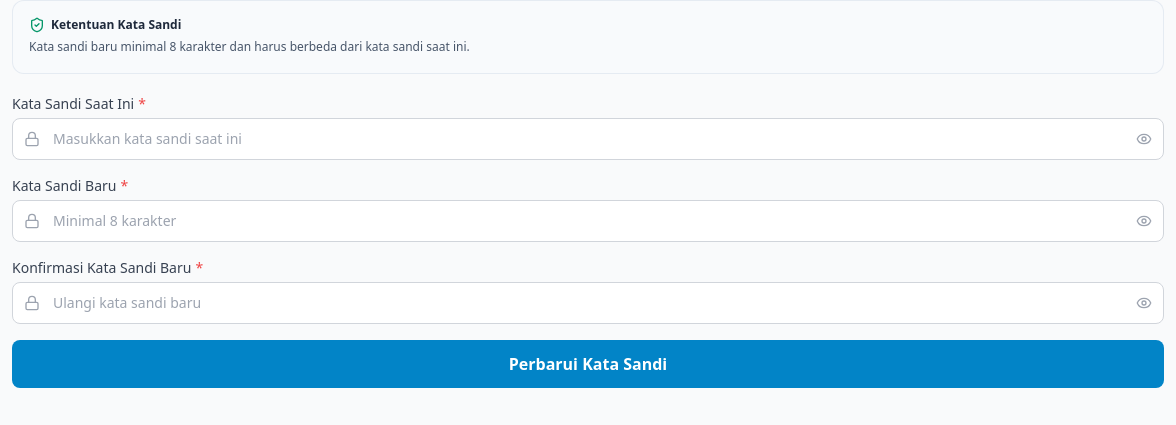
Test: ChangePasswordForm Component › prevents submission when new password equals current password
In the password field with placeholder "Masukkan kata sandi saat ini": (588, 138) [12,118,1164,160], type "samePassword123"
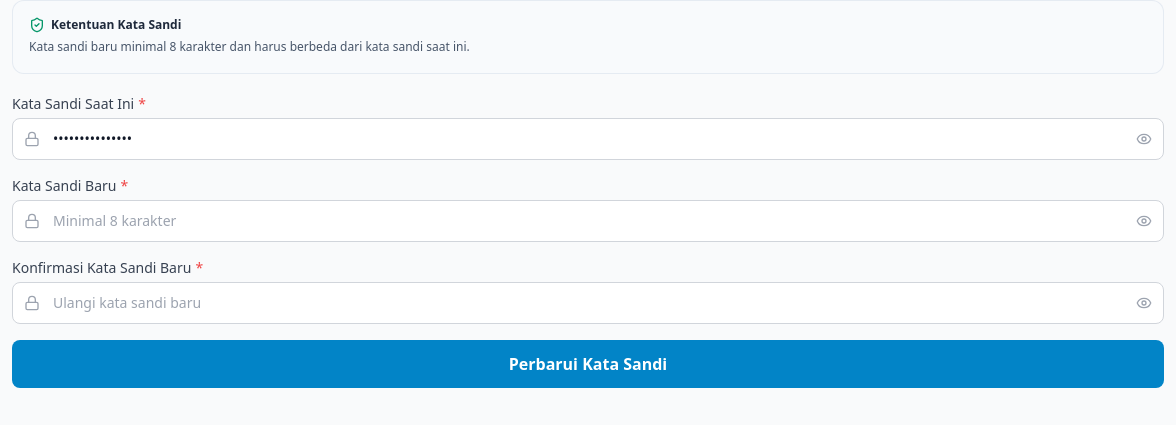
In the password field with placeholder "Minimal 8 karakter": (588, 220) [12,200,1164,242], type "samePassword123"
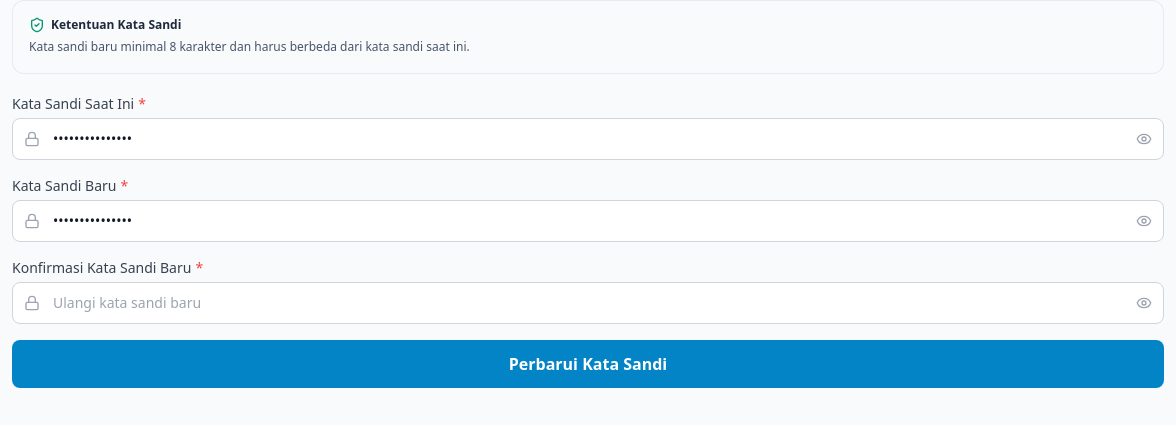
In the password field with placeholder "Ulangi kata sandi baru": (588, 302) [12,282,1164,324], type "samePassword123"
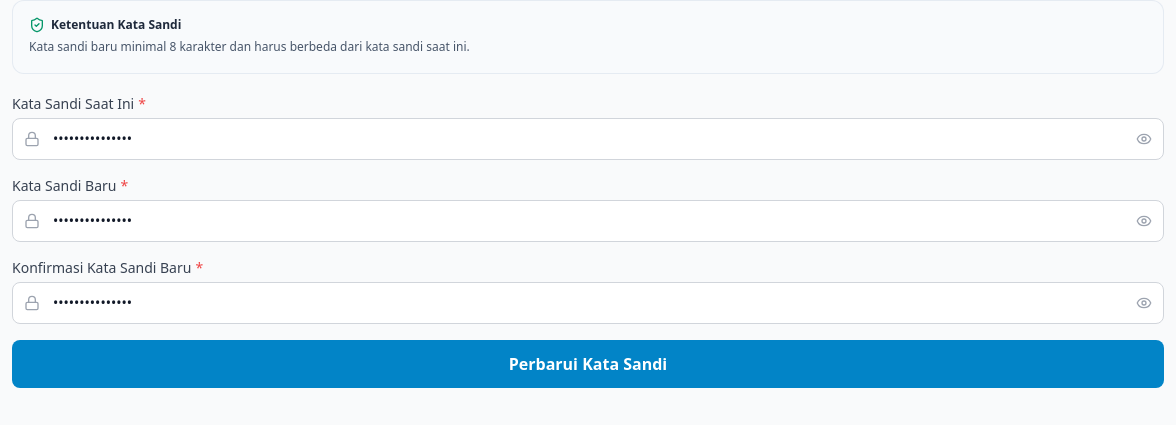
Click the button "Perbarui Kata Sandi": (588, 364) [12,340,1164,388]
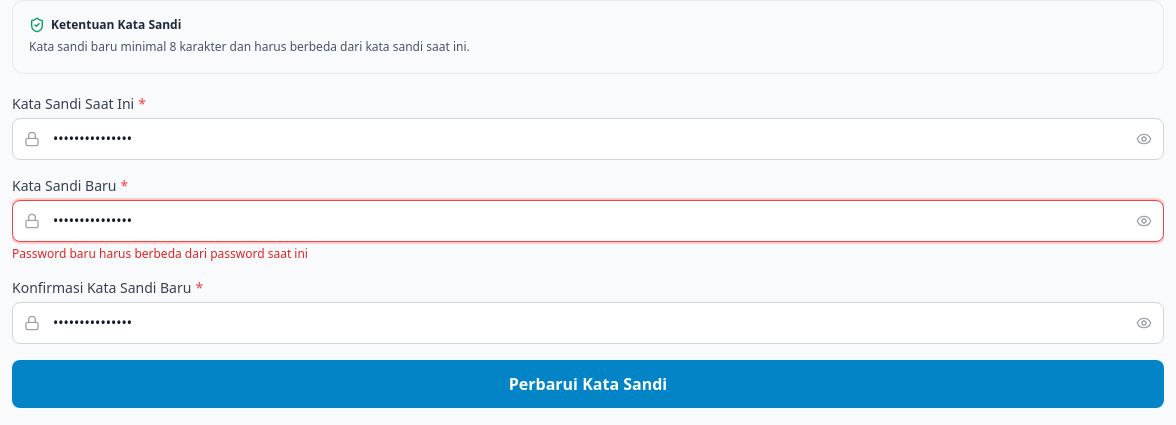
Now the text "Password baru harus berbeda dari password saat ini" is shown, box [12,244,308,262]
